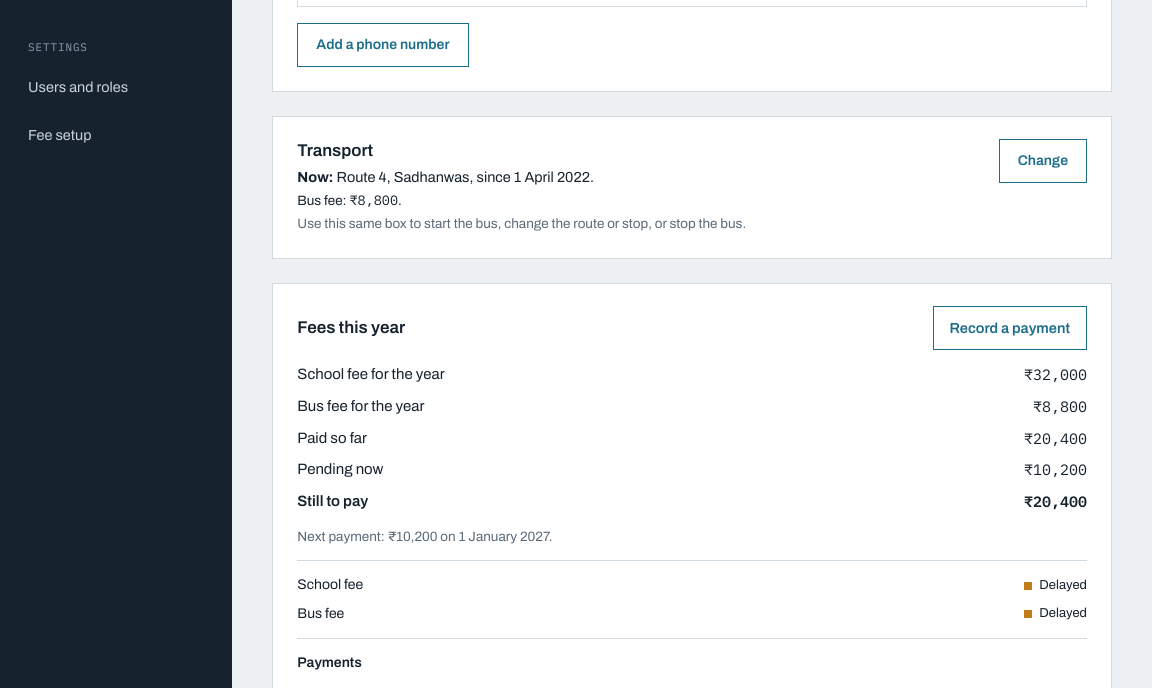
Test case: One student: Record a payment › receiptNumberIsShownAfterPayment: a toast with the receipt number, and the box moves
The width and height of the screenshot is (1152, 688).
(page scrolled)
Click the button "Record a payment": (1010, 328) [932,306,1087,350]
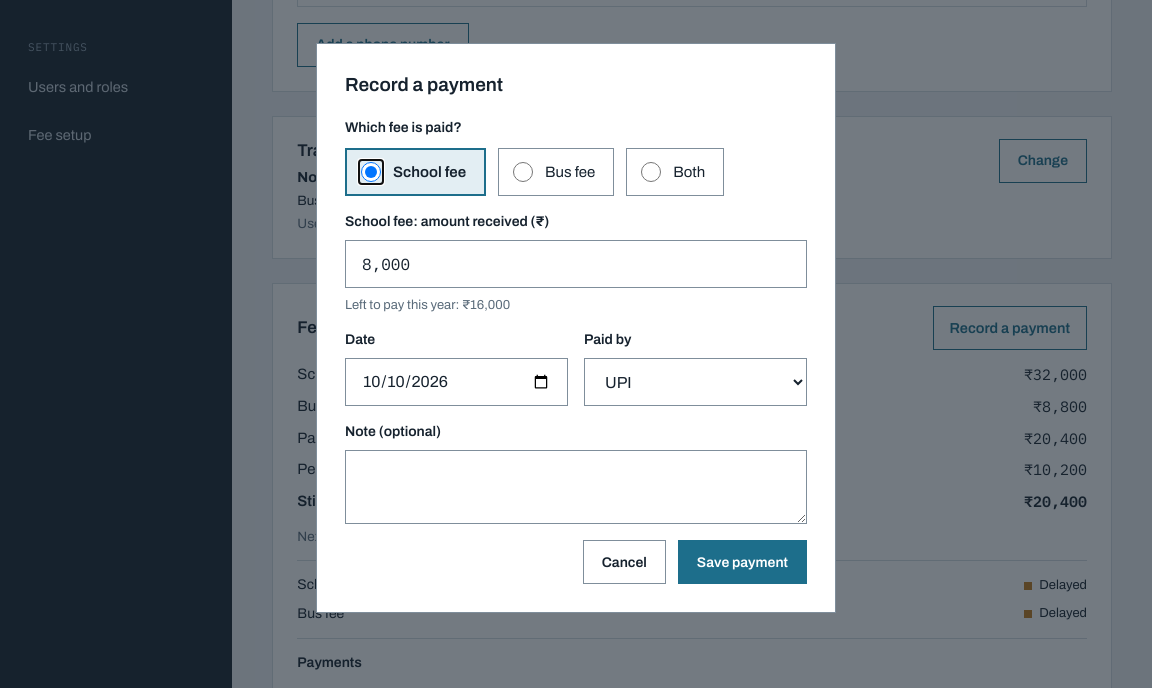
Expected: the text "₹10,200" is shown, [1024,459,1087,481]
Expected: the text "Delayed" is shown 2 times, [1024,576,1087,595]; [1024,604,1087,623]
Click the radio button labelled "Both": (651, 172) [641,162,661,182]
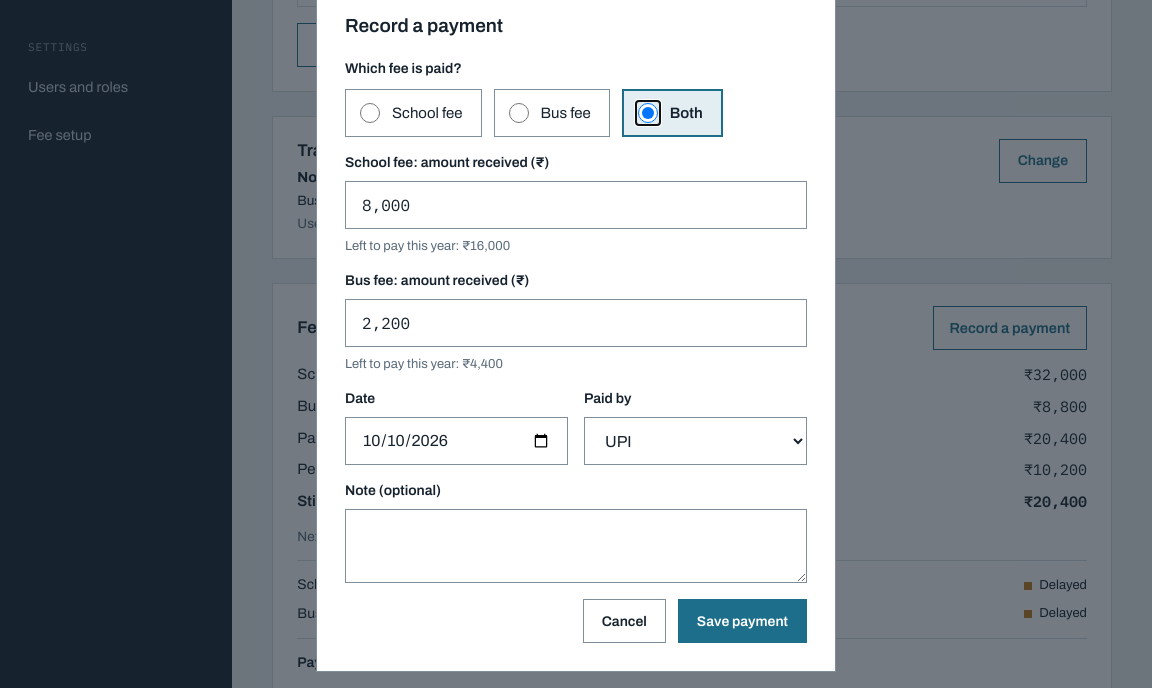
Expected: the field labelled "School fee: amount received (₹)" holds "8,000", [345,181,807,229]
Expected: the field labelled "Bus fee: amount received (₹)" holds "2,200", [345,299,807,347]
Select "Cash" in the dropdown labelled "Paid by": (696, 442) [584,418,807,466]
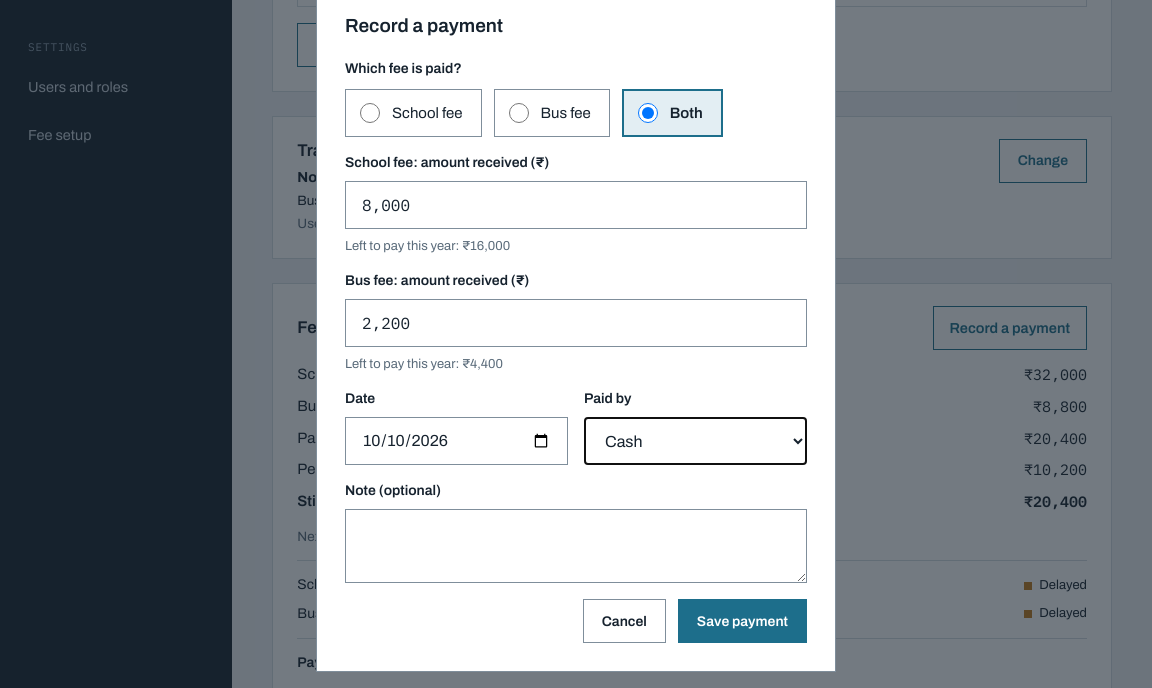
Click the button "Save payment": (742, 622) [678,600,807,644]
(page scrolled)
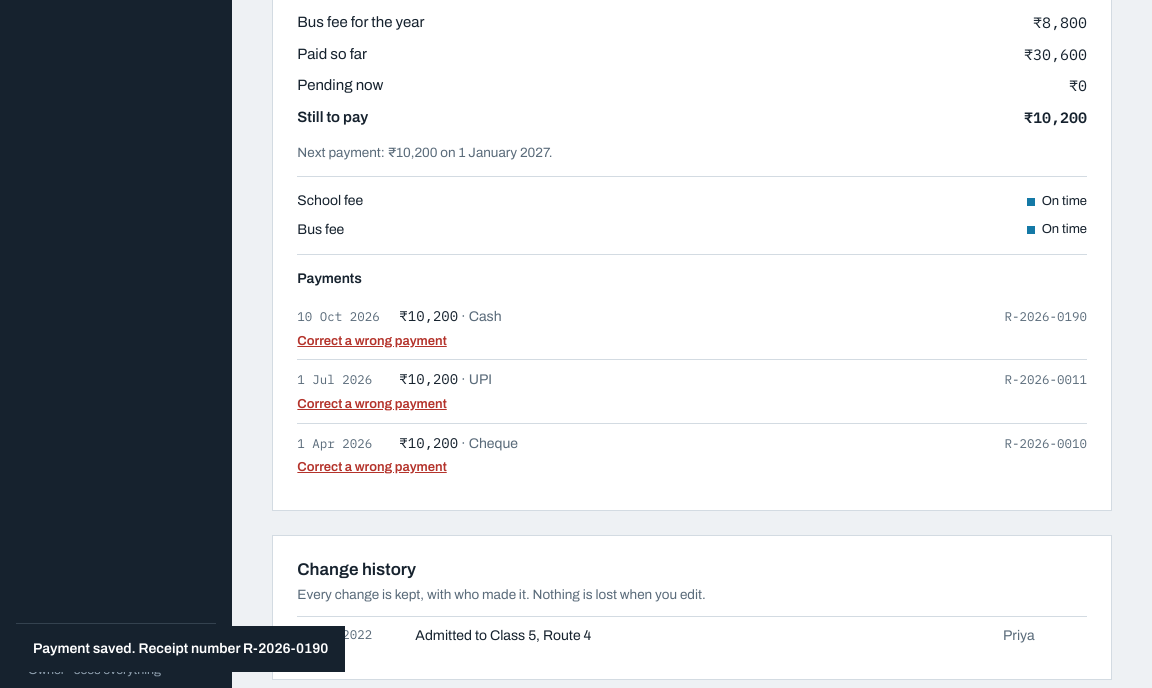
Expected: the text "Payment saved. Receipt number R-2026-0190" is shown, [16,626,345,672]
Expected: the text "₹0" is shown, [1069,75,1087,97]
Expected: the list item that starts with "10 Oct 2026" shows "₹10,200", [399,307,458,325]
